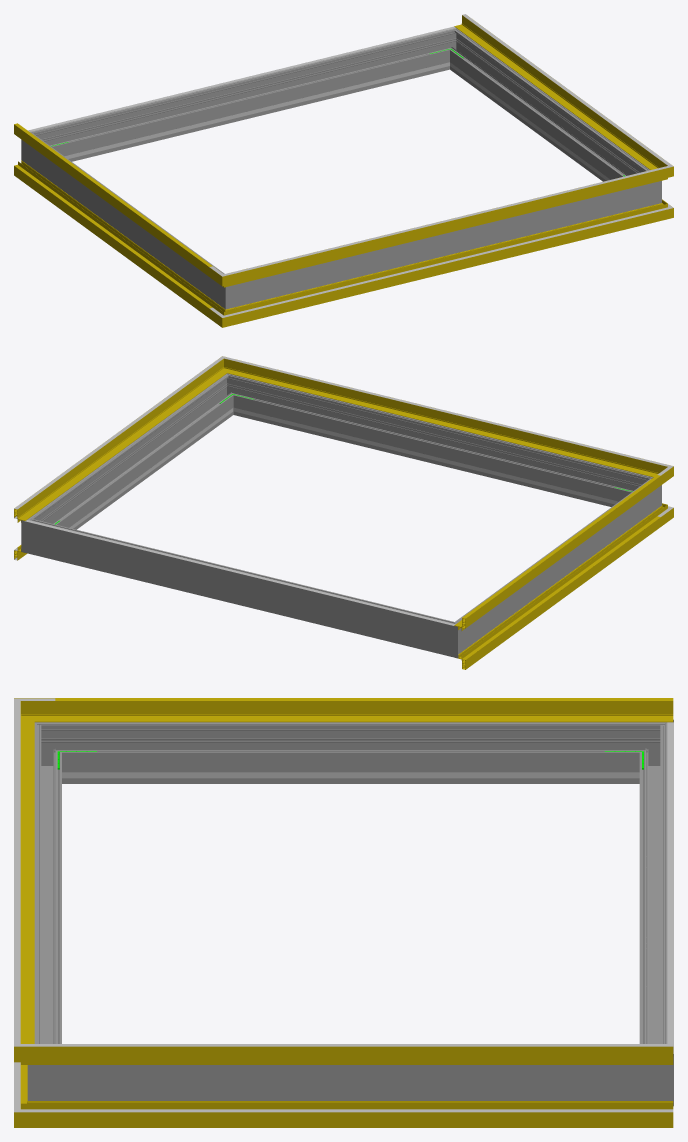
3 views of the same model, one above another, from view 1: azimuth 30°, elevation 25°; view 2: azimuth 150°, elevation 25°; view 3: azimuth 270°, elevation 25° (orthographic). The views are drawn at different scales.
Parts seen in each view (by area): view 1: 3DGeom-276, 3DGeom-298, 3DGeom-297, 3DGeom-90, 3DGeom-56, 3DGeom-268, 3DGeom-85, 3DGeom-58, 3DGeom-50, 3DGeom-244, 3DGeom-220, 3DGeom-66 (+9 smaller); view 2: 3DGeom-298, 3DGeom-276, 3DGeom-297, 3DGeom-56, 3DGeom-268, 3DGeom-85, 3DGeom-58, 3DGeom-50, 3DGeom-239, 3DGeom-220, 3DGeom-278, 3DGeom-66 (+6 smaller); view 3: 3DGeom-268, 3DGeom-297, 3DGeom-97, 3DGeom-50, 3DGeom-58, 3DGeom-276, 3DGeom-298, 3DGeom-56, 3DGeom-232, 3DGeom-98, 3DGeom-220, 3DGeom-66 (+9 smaller).
Boxes of the visible parts, left/top/right/bottom form: 3DGeom-276: left=46, top=32, right=445, bottom=161; 3DGeom-298: left=248, top=186, right=639, bottom=303; 3DGeom-297: left=452, top=36, right=644, bottom=181; 3DGeom-90: left=240, top=207, right=651, bottom=322; 3DGeom-56: left=242, top=172, right=651, bottom=282; 3DGeom-268: left=34, top=140, right=219, bottom=299; 3DGeom-85: left=14, top=160, right=216, bottom=317; 3DGeom-58: left=454, top=15, right=657, bottom=169; 3DGeom-50: left=14, top=124, right=209, bottom=276; 3DGeom-244: left=72, top=67, right=427, bottom=157; 3DGeom-220: left=28, top=26, right=455, bottom=131; 3DGeom-66: left=243, top=170, right=650, bottom=270; 3DGeom-298: left=237, top=378, right=637, bottom=506; 3DGeom-276: left=44, top=523, right=438, bottom=652; 3DGeom-297: left=38, top=381, right=231, bottom=529; 3DGeom-56: left=238, top=363, right=649, bottom=475; 3DGeom-268: left=464, top=485, right=648, bottom=644; 3DGeom-85: left=458, top=512, right=660, bottom=669; 3DGeom-58: left=14, top=367, right=220, bottom=522; 3DGeom-50: left=454, top=476, right=660, bottom=630; 3DGeom-239: left=255, top=413, right=610, bottom=503; 3DGeom-220: left=25, top=520, right=455, bottom=625; 3DGeom-278: left=435, top=615, right=470, bottom=658; 3DGeom-66: left=243, top=361, right=650, bottom=461; 3DGeom-268: left=69, top=722, right=632, bottom=783; 3DGeom-297: left=69, top=1065, right=632, bottom=1100; 3DGeom-97: left=55, top=1101, right=673, bottom=1127; 3DGeom-50: left=55, top=698, right=673, bottom=722; 3DGeom-58: left=55, top=1046, right=673, bottom=1064; 3DGeom-276: left=639, top=737, right=667, bottom=1043; 3DGeom-298: left=34, top=737, right=61, bottom=1043; 3DGeom-56: left=20, top=716, right=34, bottom=1043; 3DGeom-232: left=102, top=772, right=599, bottom=778; 3DGeom-98: left=55, top=1109, right=673, bottom=1112; 3DGeom-220: left=667, top=722, right=673, bottom=1053; 3DGeom-66: left=14, top=715, right=20, bottom=1029.
Size of the model in its own units: 3.05 by 0.3303 by 2.44.
